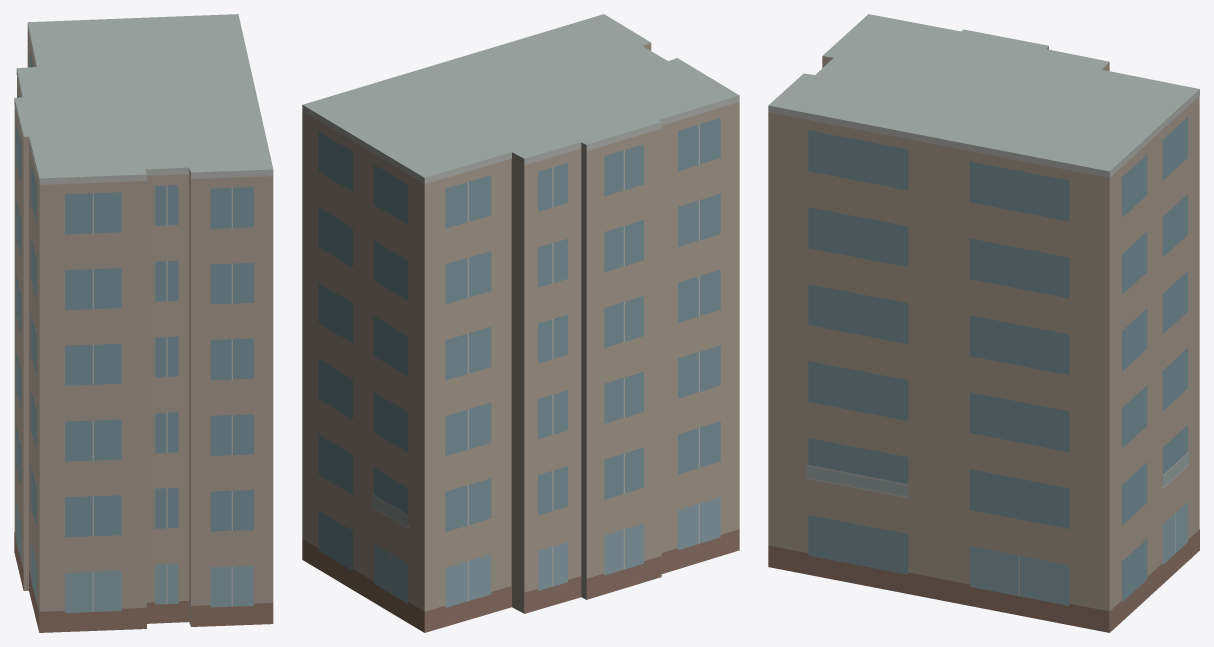
File: survey-upis-32551326.glb
The picture shows the model from 3 angles, left to right: view 1: azimuth 30°, elevation 25°; view 2: azimuth 150°, elevation 25°; view 3: azimuth 270°, elevation 25°; orthographic projection.
Visible parts, largest first — view 1: survey-upis-32551326.tmp; view 2: survey-upis-32551326.tmp; view 3: survey-upis-32551326.tmp.
Part boxes in pixels (bbox=[...]): survey-upis-32551326.tmp: bbox=[14, 14, 273, 632]; survey-upis-32551326.tmp: bbox=[302, 14, 739, 632]; survey-upis-32551326.tmp: bbox=[768, 14, 1199, 632].
Size of the model in its own units: 12.52 by 17.1 by 14.5.
